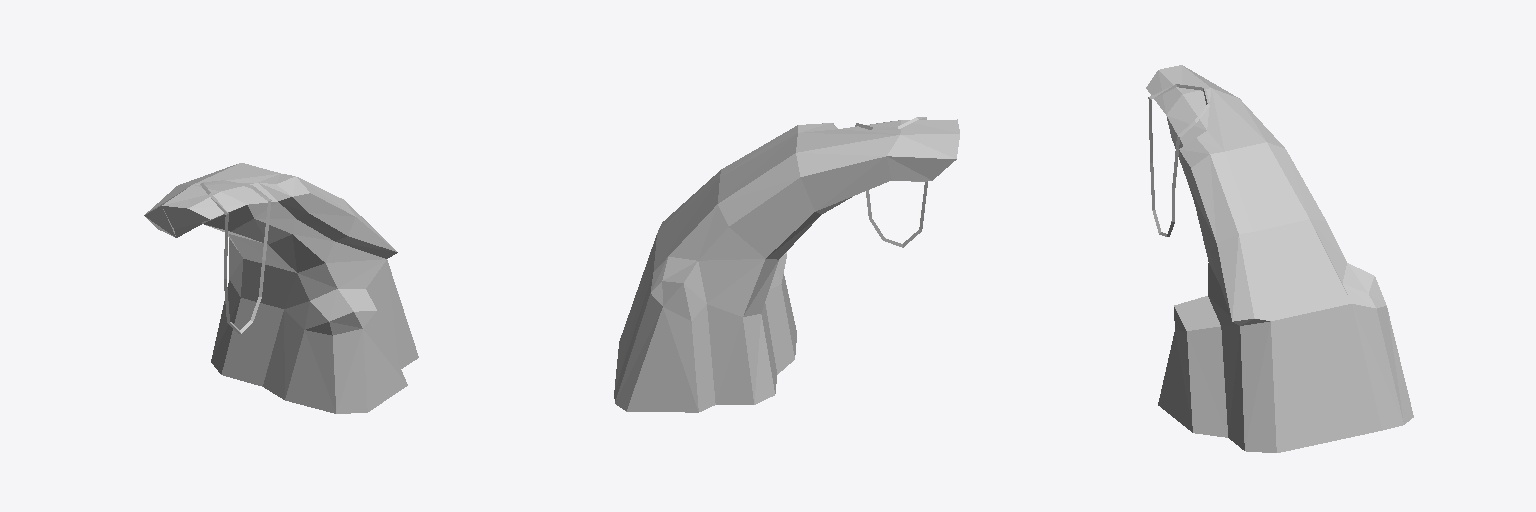
File: stone4.obj
3 views of the same model, side by side, from view 1: azimuth 30°, elevation 25°; view 2: azimuth 150°, elevation 25°; view 3: azimuth 270°, elevation 25° (orthographic).
Visible parts, largest first — view 1: Cliffe_lush_(2); view 2: Cliffe_lush_(2); view 3: Cliffe_lush_(2).
Boxes of the visible parts, <box> form: Cliffe_lush_(2): <box>144,163,418,413</box>; Cliffe_lush_(2): <box>614,117,959,412</box>; Cliffe_lush_(2): <box>1146,65,1413,452</box>.
Bounding box in the file's own units: 2641 × 2093 × 2039.